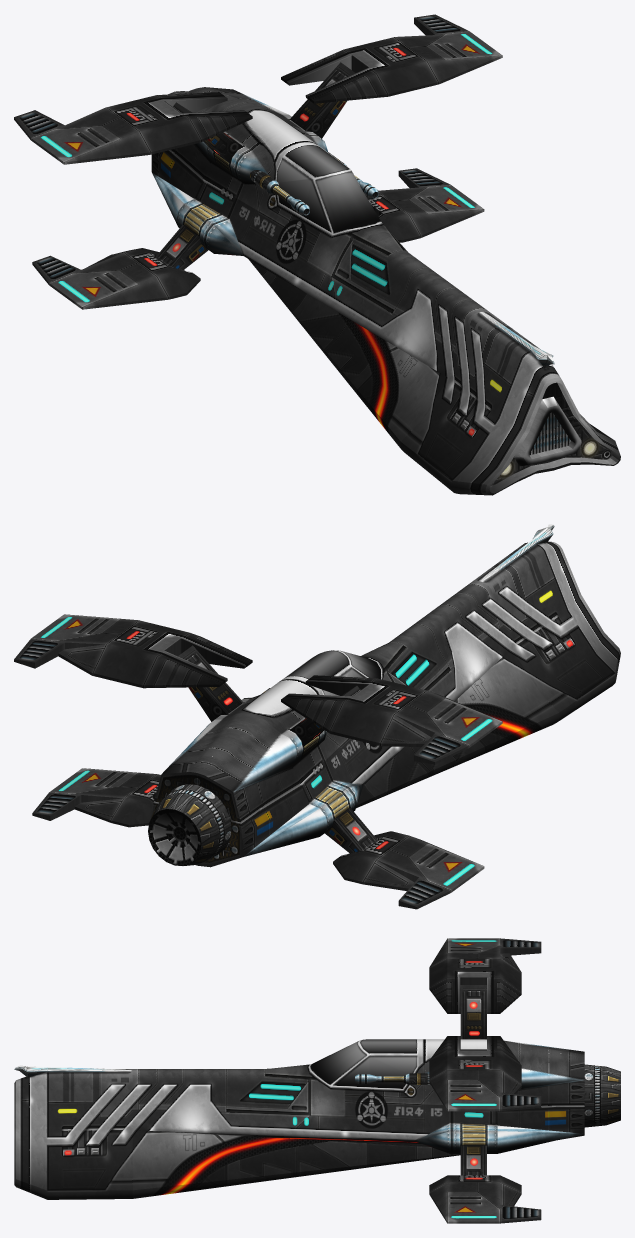
The model's file is scout.glb.
3 views of the same model, one above another, from view 1: azimuth 30°, elevation 25°; view 2: azimuth 150°, elevation 25°; view 3: azimuth 270°, elevation 25° (orthographic). The views are drawn at different scales.
Parts seen in each view (by area): view 1: mainbody, wing2, wing1, wing4, wing3, strut1, strut4, recoil2, strut2; view 2: mainbody, wing2, wing1, wing4, nozzle, wing3, strut1, strut4, strut2; view 3: mainbody, wing1, wing2, wing3, nozzle, strut2, strut3, recoil1.
Part boxes in pixels (x1,y1,x2,y2): mainbody: [151, 87, 620, 495]; wing2: [14, 92, 252, 164]; wing1: [281, 14, 502, 103]; wing4: [32, 248, 200, 309]; wing3: [365, 168, 484, 242]; strut1: [290, 62, 355, 138]; strut4: [155, 225, 208, 269]; recoil2: [250, 170, 309, 215]; strut2: [173, 102, 243, 163]; mainbody: [151, 524, 620, 867]; wing2: [281, 675, 502, 764]; wing1: [14, 614, 252, 688]; wing4: [333, 831, 484, 909]; nozzle: [148, 784, 231, 865]; wing3: [32, 768, 160, 827]; strut1: [178, 645, 243, 721]; strut4: [325, 808, 377, 853]; strut2: [290, 686, 360, 746]; mainbody: [14, 1039, 584, 1199]; wing1: [429, 1036, 541, 1111]; wing2: [429, 938, 541, 1013]; wing3: [429, 1175, 541, 1223]; nozzle: [584, 1064, 620, 1127]; strut2: [460, 985, 486, 1039]; strut3: [460, 1145, 486, 1175]; recoil1: [355, 1073, 430, 1084].
Size of the model in its own units: 4.47 by 1.91 by 6.71.
Materials: 1 (1 with a texture image).
